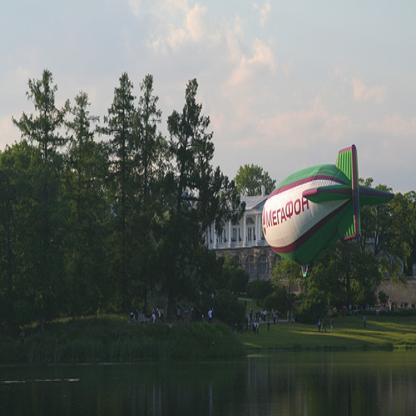Airship: (261, 143, 395, 268)
